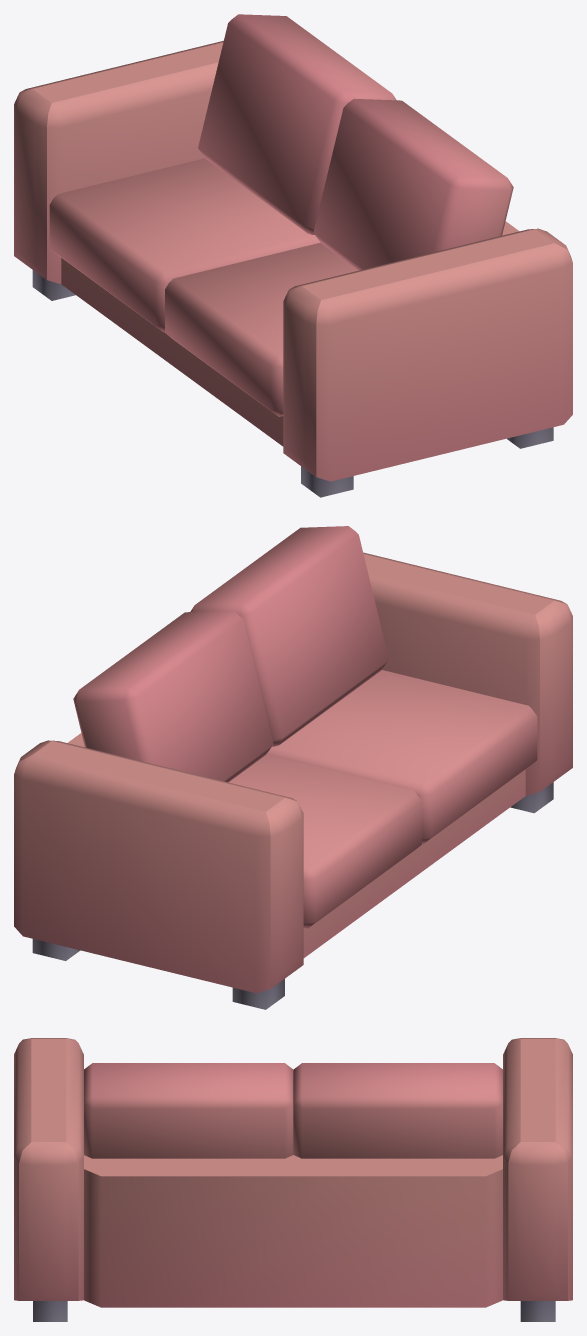
File: amsterdam-sofa.glb
The picture shows the model from 3 angles, top to bottom: view 1: azimuth 30°, elevation 25°; view 2: azimuth 150°, elevation 25°; view 3: azimuth 270°, elevation 25°; orthographic projection. The views are drawn at different scales.
Visible parts, largest first — view 1: amsterdam-sofa; view 2: amsterdam-sofa; view 3: amsterdam-sofa.
Part boxes in pixels (left/top/right/bottom): amsterdam-sofa: left=14, top=14, right=572, bottom=497; amsterdam-sofa: left=14, top=526, right=572, bottom=1009; amsterdam-sofa: left=14, top=1038, right=572, bottom=1321.
Bounding box in the file's own units: 0.8 × 0.7323 × 1.6.
